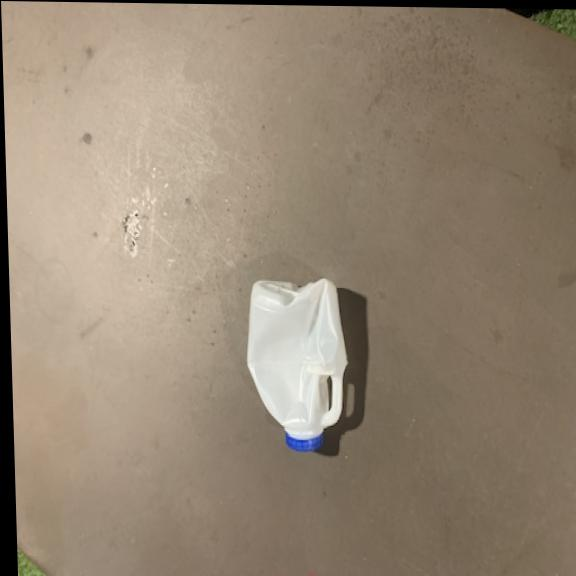Plastik: (241, 278, 352, 452)
